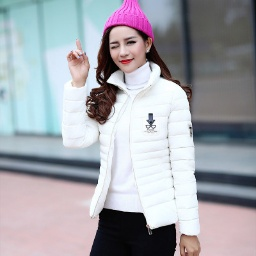face: (97, 25, 158, 83)
